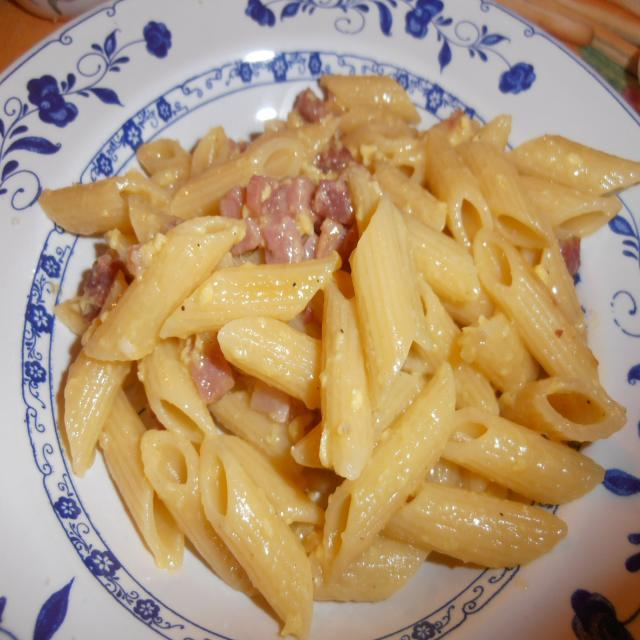Pasta with carbonara sauce: (13, 43, 640, 615)
